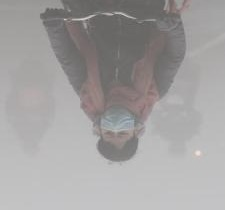person: (39, 1, 187, 162), (5, 56, 56, 150), (153, 92, 204, 153)
